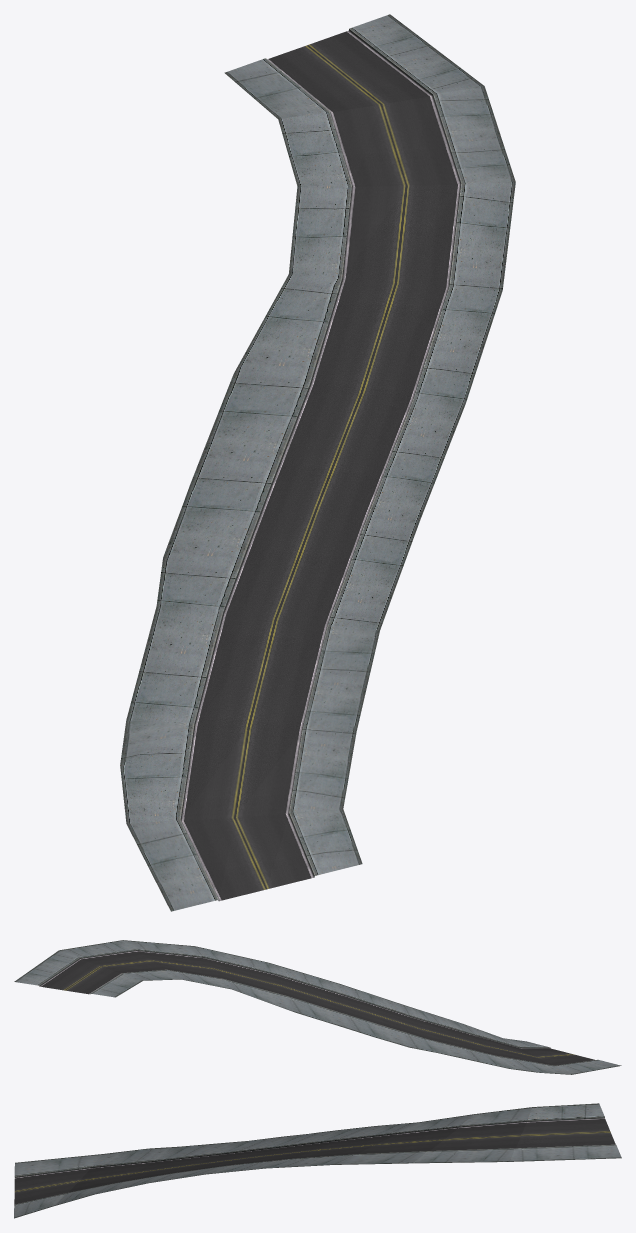
The model's file is laeroad18.obj.
The picture shows the model from 3 angles, top to bottom: view 1: azimuth 30°, elevation 25°; view 2: azimuth 150°, elevation 25°; view 3: azimuth 270°, elevation 25°; orthographic projection. The views are drawn at different scales.
Visible parts, largest first — view 1: laeroad18; view 2: laeroad18; view 3: laeroad18.
Part boxes in pixels (x1,y1,x2,y2): laeroad18: (120,14,515,911); laeroad18: (14,940,621,1074); laeroad18: (14,1103,621,1218).
Size of the model in its own units: 76.69 by 36.54 by 92.11.
